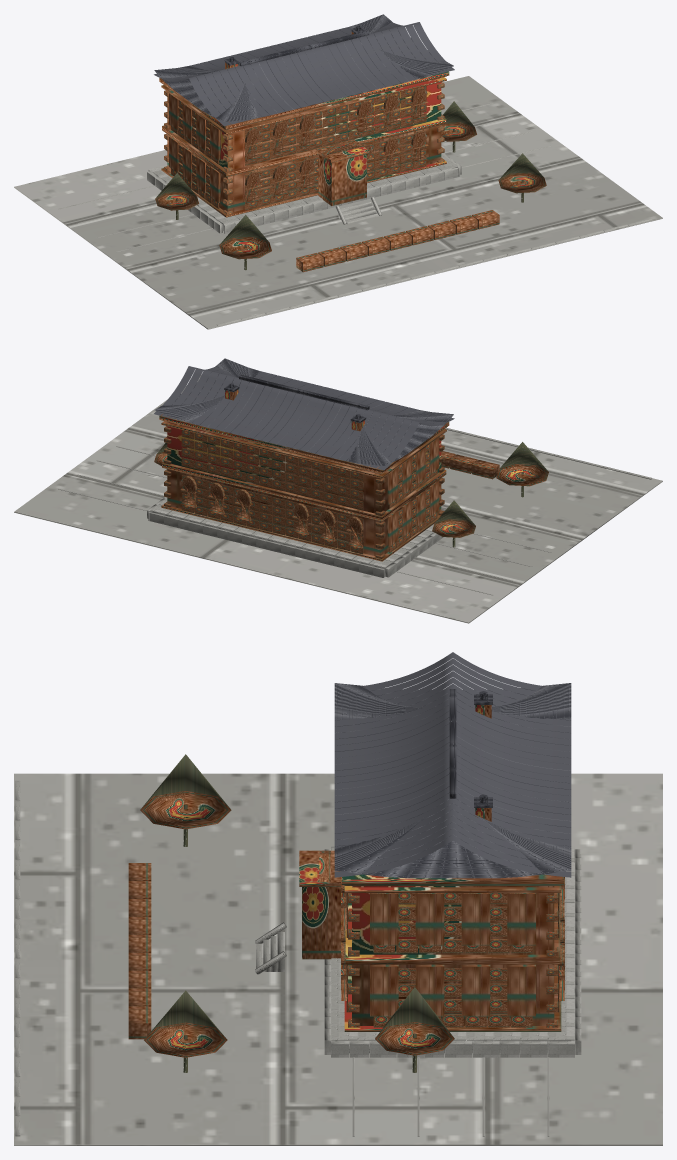
The picture shows the model from 3 angles, top to bottom: view 1: azimuth 30°, elevation 25°; view 2: azimuth 150°, elevation 25°; view 3: azimuth 270°, elevation 25°; orthographic projection. The views are drawn at different scales.
Visible parts, largest first — view 1: 11140_02_04519_007_06__courtyard_paving, 11140_02_04519_007_02__red_brick_two_storey_body, 11140_02_04519_007_03__slate_hip_roof, 11140_02_04519_007_06__courtyard_trees, 11140_02_04519_007_05__arch_window_sash, 11140_02_04519_007_01__granite_plinth_stone, 11140_02_04519_007_03__ridge_chimney_cap; view 2: 11140_02_04519_007_06__courtyard_paving, 11140_02_04519_007_02__red_brick_two_storey_body, 11140_02_04519_007_03__slate_hip_roof, 11140_02_04519_007_01__granite_plinth_stone, 11140_02_04519_007_05__arch_window_sash, 11140_02_04519_007_06__courtyard_trees, 11140_02_04519_007_03__ridge_chimney_cap; view 3: 11140_02_04519_007_06__courtyard_paving, 11140_02_04519_007_03__slate_hip_roof, 11140_02_04519_007_02__red_brick_two_storey_body, 11140_02_04519_007_06__courtyard_trees, 11140_02_04519_007_05__arch_window_sash, 11140_02_04519_007_01__granite_plinth_stone, 11140_02_04519_007_03__ridge_chimney_cap.
Boxes of the visible parts, <box> form: 11140_02_04519_007_06__courtyard_paving: <box>14,76,662,329</box>; 11140_02_04519_007_02__red_brick_two_storey_body: <box>159,32,449,217</box>; 11140_02_04519_007_03__slate_hip_roof: <box>154,14,454,126</box>; 11140_02_04519_007_06__courtyard_trees: <box>155,101,546,272</box>; 11140_02_04519_007_05__arch_window_sash: <box>169,87,428,204</box>; 11140_02_04519_007_01__granite_plinth_stone: <box>147,153,461,233</box>; 11140_02_04519_007_03__ridge_chimney_cap: <box>224,26,369,66</box>; 11140_02_04519_007_06__courtyard_paving: <box>14,375,662,623</box>; 11140_02_04519_007_02__red_brick_two_storey_body: <box>159,389,449,561</box>; 11140_02_04519_007_03__slate_hip_roof: <box>154,358,454,470</box>; 11140_02_04519_007_01__granite_plinth_stone: <box>147,497,445,577</box>; 11140_02_04519_007_05__arch_window_sash: <box>180,437,439,548</box>; 11140_02_04519_007_06__courtyard_trees: <box>154,442,548,547</box>; 11140_02_04519_007_03__ridge_chimney_cap: <box>224,375,369,423</box>; 11140_02_04519_007_06__courtyard_paving: <box>14,773,662,1145</box>; 11140_02_04519_007_03__slate_hip_roof: <box>334,652,571,878</box>; 11140_02_04519_007_02__red_brick_two_storey_body: <box>299,705,563,1031</box>; 11140_02_04519_007_06__courtyard_trees: <box>128,754,454,1072</box>; 11140_02_04519_007_05__arch_window_sash: <box>341,877,564,1016</box>; 11140_02_04519_007_01__granite_plinth_stone: <box>255,846,581,1057</box>; 11140_02_04519_007_03__ridge_chimney_cap: <box>449,689,492,807</box>.
Size of the model in its own units: 46 by 12.66 by 34.
7 materials, 7 textured.
